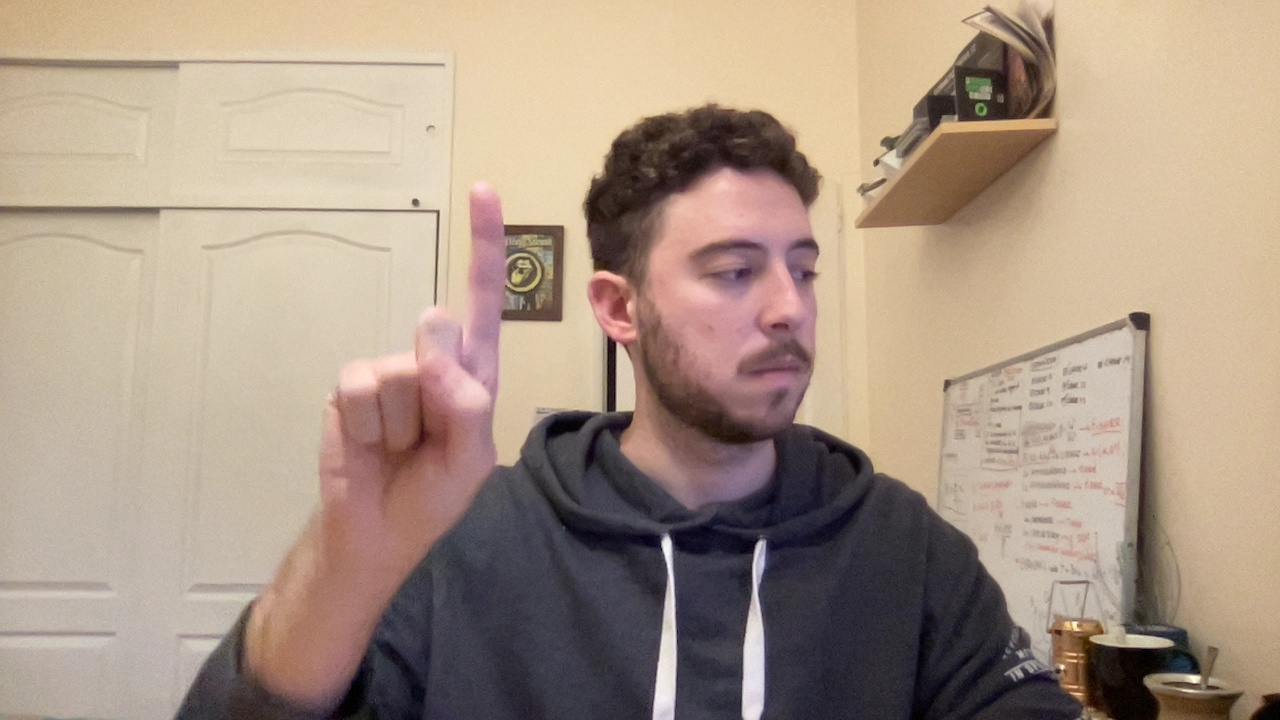indice: (280, 175, 530, 560)
